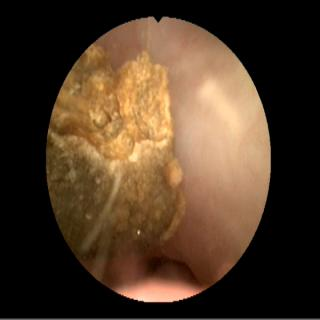stone: (49, 45, 184, 258)
tissue: (92, 20, 267, 295)
